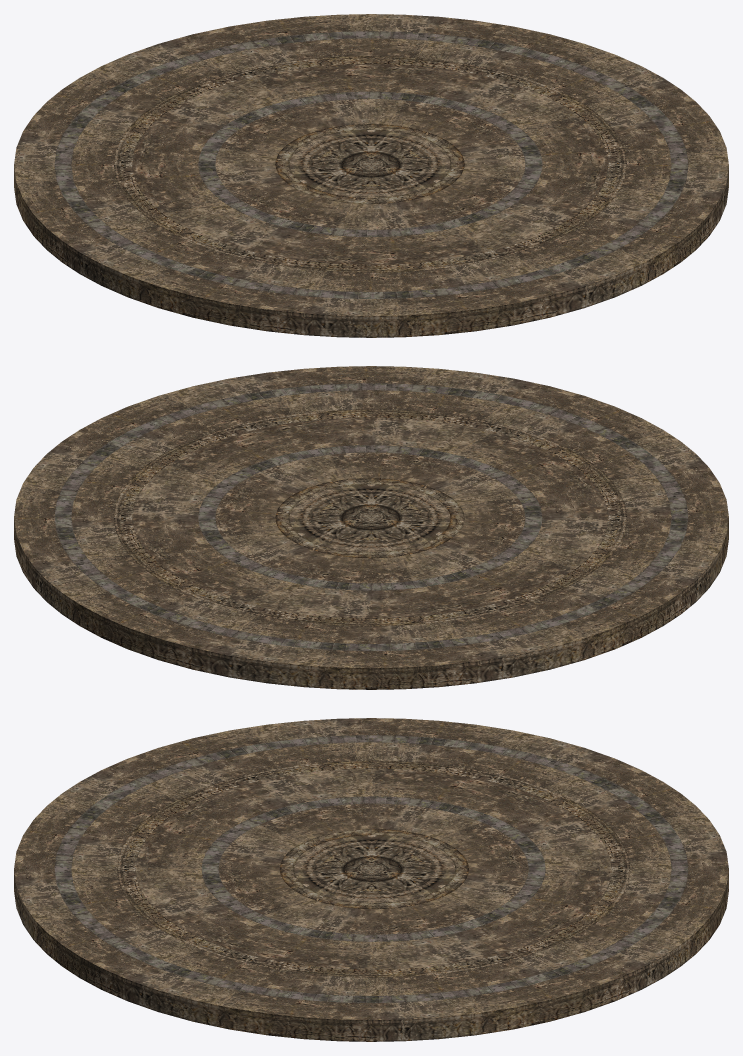
Rendered from materials_5_floor_round_5.fbx.
The picture shows the model from 3 angles, top to bottom: view 1: azimuth 30°, elevation 25°; view 2: azimuth 150°, elevation 25°; view 3: azimuth 270°, elevation 25°; orthographic projection.
Parts seen in each view (by area): view 1: materials_5_floor_round_5; view 2: materials_5_floor_round_5; view 3: materials_5_floor_round_5.
Part boxes in pixels (x1=…): materials_5_floor_round_5: x1=14, y1=14, x2=728, y2=337; materials_5_floor_round_5: x1=14, y1=366, x2=728, y2=689; materials_5_floor_round_5: x1=14, y1=718, x2=728, y2=1041.
Size of the model in its own units: 1007 by 33.7 by 1007.
